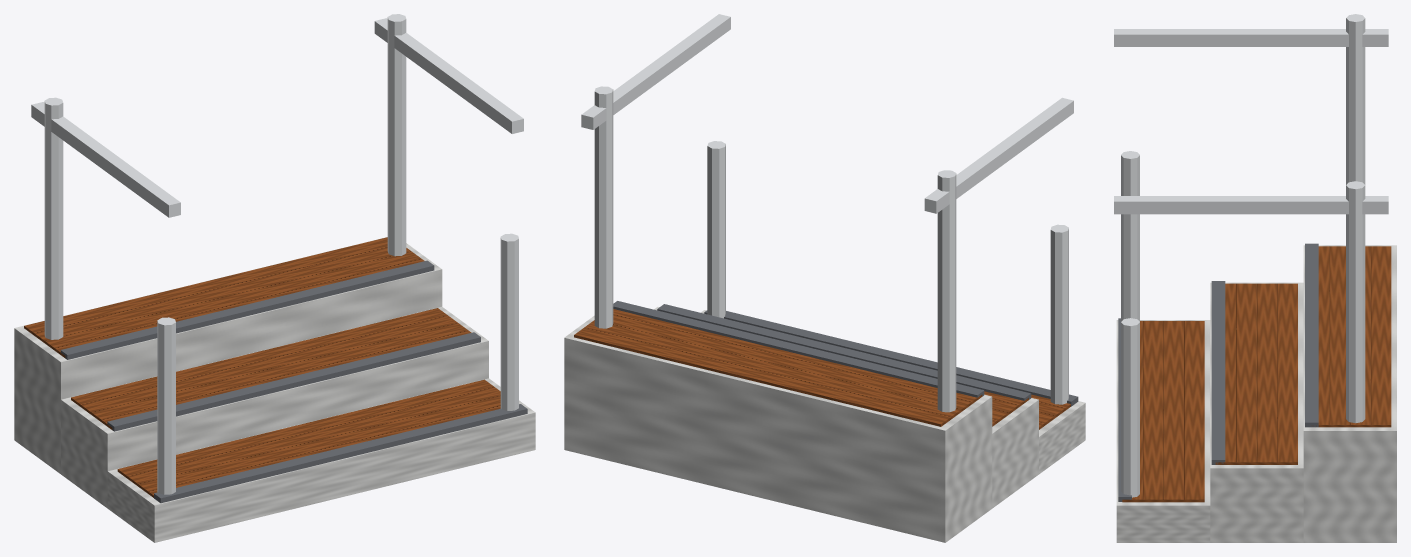
File: cruise-ship-deck-and-lounge-cruise-ship-deck-and-loung-b2fc14e9__38433.glb
3 renders of one model, left to right at view 1: azimuth 30°, elevation 25°; view 2: azimuth 150°, elevation 25°; view 3: azimuth 270°, elevation 25°, orthographic.
Parts seen in each view (by area): view 1: cruise-ship-deck-and-lounge-pool-steps; view 2: cruise-ship-deck-and-lounge-pool-steps; view 3: cruise-ship-deck-and-lounge-pool-steps.
Boxes of the visible parts, bbox=[...] form: cruise-ship-deck-and-lounge-pool-steps: bbox=[14, 14, 535, 542]; cruise-ship-deck-and-lounge-pool-steps: bbox=[564, 14, 1085, 542]; cruise-ship-deck-and-lounge-pool-steps: bbox=[1114, 14, 1396, 542].
Bounding box in the file's own units: 1.6 × 1.4 × 1.03.
4 materials, 2 textured.
